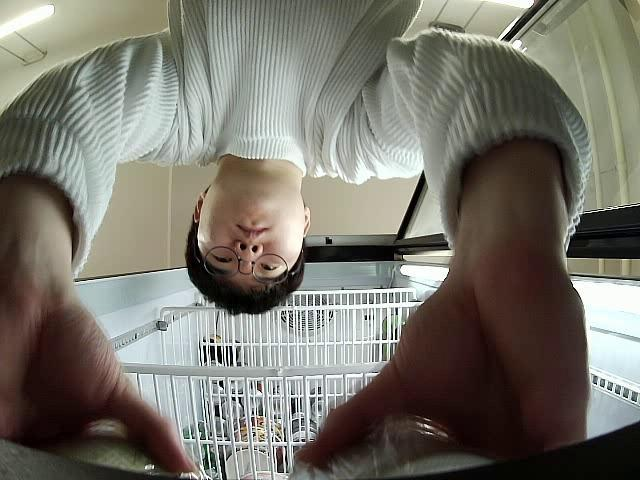03_chapagetti_L: (291, 413, 495, 480)
